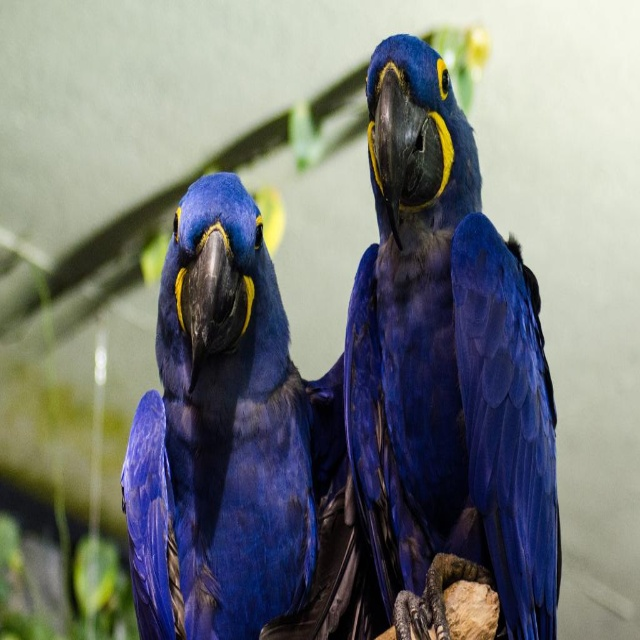Parrot: (339, 32, 561, 639), (117, 171, 349, 639)
